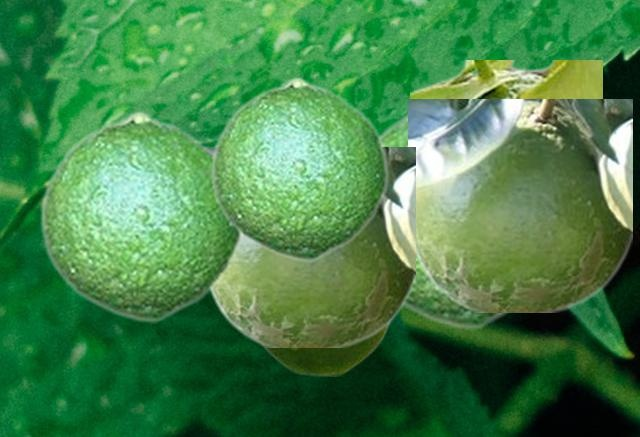dalandan: (408, 99, 631, 311), (38, 110, 243, 322), (208, 147, 414, 346), (209, 76, 388, 261), (380, 108, 521, 329), (410, 60, 601, 98), (259, 323, 393, 375)
